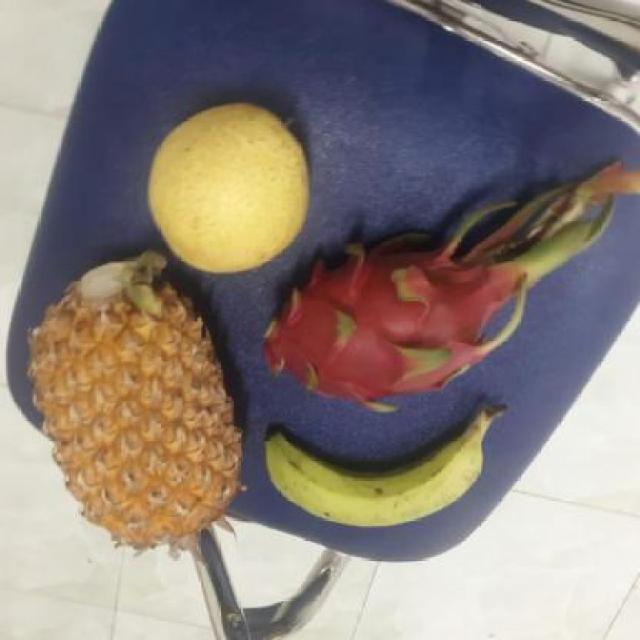banana: (256, 398, 492, 522)
dragon fruit: (243, 248, 508, 407)
guava: (136, 103, 312, 274)
pineapple: (25, 256, 242, 549)
